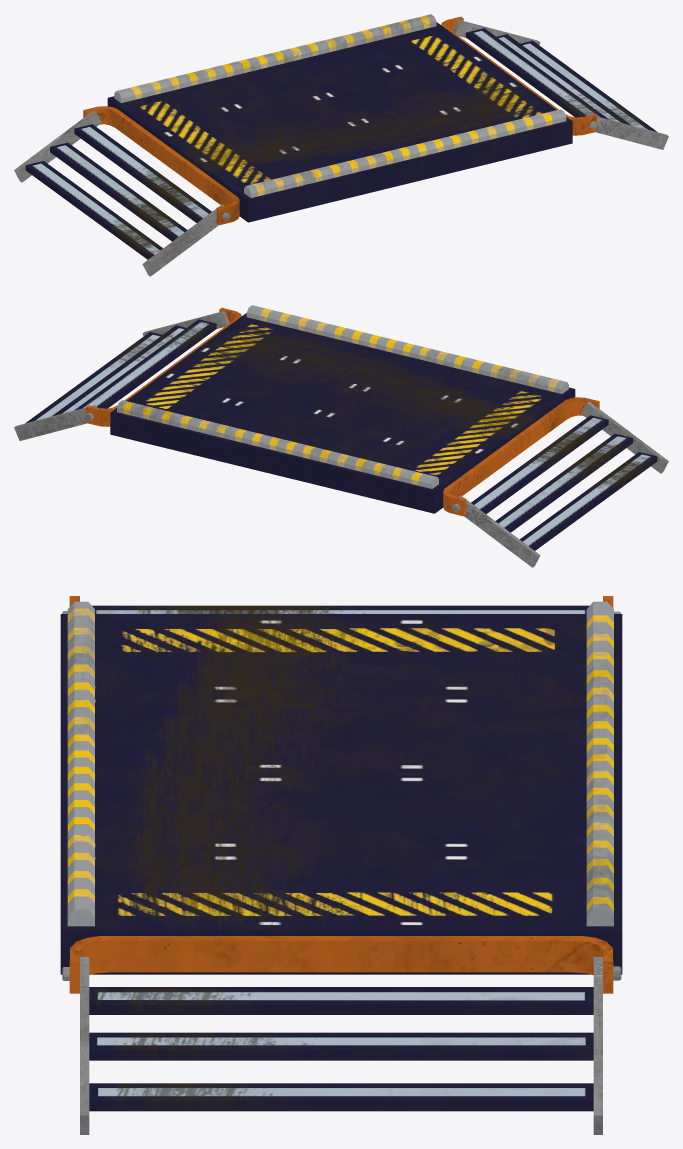
The model's file is catwalk-bridge.glb.
The picture shows the model from 3 angles, top to bottom: view 1: azimuth 30°, elevation 25°; view 2: azimuth 150°, elevation 25°; view 3: azimuth 270°, elevation 25°; orthographic projection. The views are drawn at different scales.
Visible parts, largest first — view 1: Object_2; view 2: Object_2; view 3: Object_2.
Part boxes in pixels (<box>): Object_2: <box>14,14,668,276</box>; Object_2: <box>14,305,668,567</box>; Object_2: <box>60,596,622,1134</box>.
Bounding box in the file's own units: 6.46 × 0.7703 × 3.
1 material, 1 textured.
